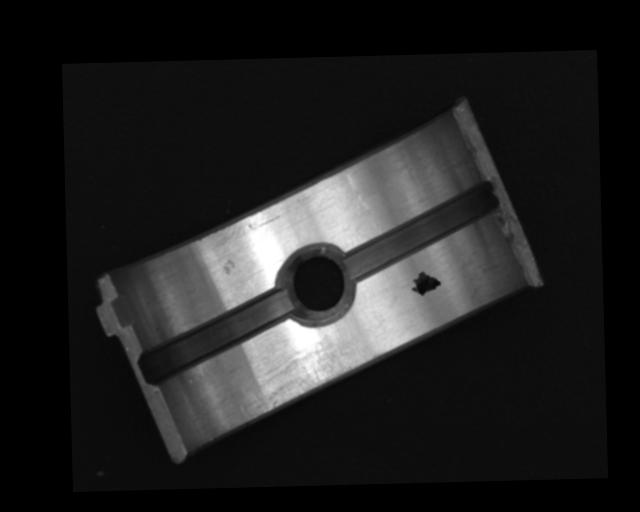blot: (409, 269, 442, 297)
bruise: (221, 257, 238, 275)
gap: (344, 182, 499, 280), (138, 292, 293, 384)
hole: (280, 244, 352, 327)
nick: (346, 172, 377, 220)
scratch: (241, 334, 370, 422)
